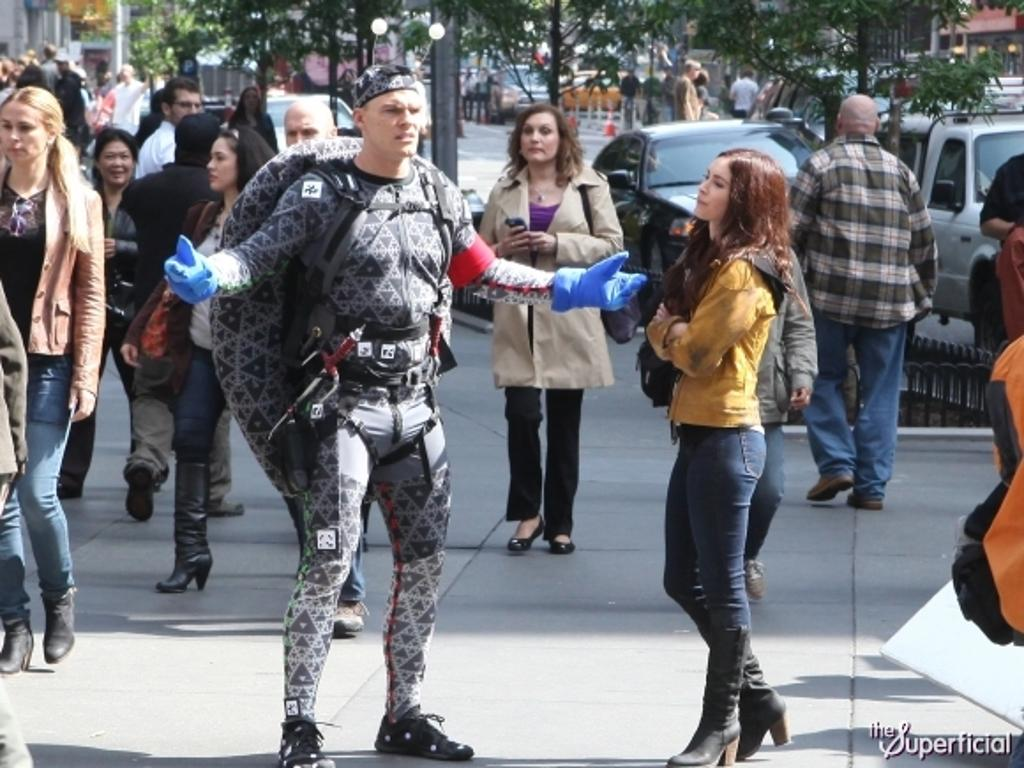face: (367, 86, 421, 155), (1, 103, 46, 162), (693, 157, 728, 220), (285, 109, 325, 158), (521, 115, 558, 162), (206, 137, 238, 191), (101, 143, 132, 183), (173, 89, 201, 126), (244, 91, 257, 108)
